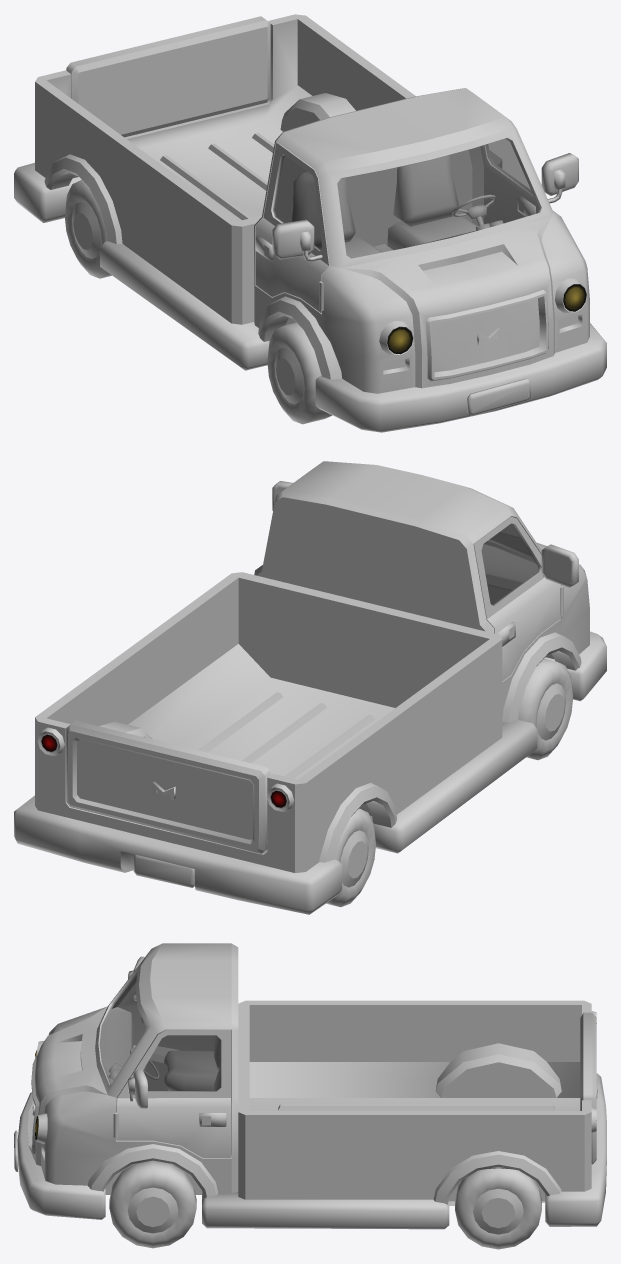
The model's file is TP_Pick_Up_01B.fbx.
The picture shows the model from 3 angles, top to bottom: view 1: azimuth 30°, elevation 25°; view 2: azimuth 150°, elevation 25°; view 3: azimuth 270°, elevation 25°; orthographic projection. The views are drawn at different scales.
Visible parts, largest first — view 1: TP_Pick_Up_01B_Body, TP_Pick_Up_01B_Tailgate, TP_Pick_Up_01B_Door.R, TP_Pick_Up_01B_Door.L, TP_Pick_Up_01B_Wheel_F.R, TP_Pick_Up_01B_Wheel_R.R, TP_Pick_Up_01B_Headlights, TP_Pick_Up_01B_Steering_Wheel; view 2: TP_Pick_Up_01B_Body, TP_Pick_Up_01B_Tailgate, TP_Pick_Up_01B_Door.R, TP_Pick_Up_01B_Wheel_F.R, TP_Pick_Up_01B_Wheel_R.R; view 3: TP_Pick_Up_01B_Body, TP_Pick_Up_01B_Door.L, TP_Pick_Up_01B_Wheel_F.L, TP_Pick_Up_01B_Wheel_R.L, TP_Pick_Up_01B_Tailgate, TP_Pick_Up_01B_Door.R.
Part boxes in pixels (<box>): TP_Pick_Up_01B_Body: <box>14,14,606,432</box>; TP_Pick_Up_01B_Tailgate: <box>66,16,270,137</box>; TP_Pick_Up_01B_Door.R: <box>255,142,329,313</box>; TP_Pick_Up_01B_Door.L: <box>480,139,578,224</box>; TP_Pick_Up_01B_Wheel_F.R: <box>267,322,332,424</box>; TP_Pick_Up_01B_Wheel_R.R: <box>64,180,111,278</box>; TP_Pick_Up_01B_Headlights: <box>387,284,586,354</box>; TP_Pick_Up_01B_Steering_Wheel: <box>451,194,495,225</box>; TP_Pick_Up_01B_Body: <box>14,461,606,914</box>; TP_Pick_Up_01B_Tailgate: <box>66,720,270,853</box>; TP_Pick_Up_01B_Door.R: <box>473,517,578,680</box>; TP_Pick_Up_01B_Wheel_F.R: <box>518,658,572,760</box>; TP_Pick_Up_01B_Wheel_R.R: <box>326,808,375,907</box>; TP_Pick_Up_01B_Body: <box>14,943,606,1229</box>; TP_Pick_Up_01B_Door.L: <box>113,1030,230,1157</box>; TP_Pick_Up_01B_Wheel_F.L: <box>109,1160,196,1248</box>; TP_Pick_Up_01B_Wheel_R.L: <box>455,1168,541,1249</box>; TP_Pick_Up_01B_Tailgate: <box>580,1012,597,1164</box>; TP_Pick_Up_01B_Door.R: <box>118,956,215,1050</box>.
Bounding box in the file's own units: 2.79 × 2.18 × 5.45.
